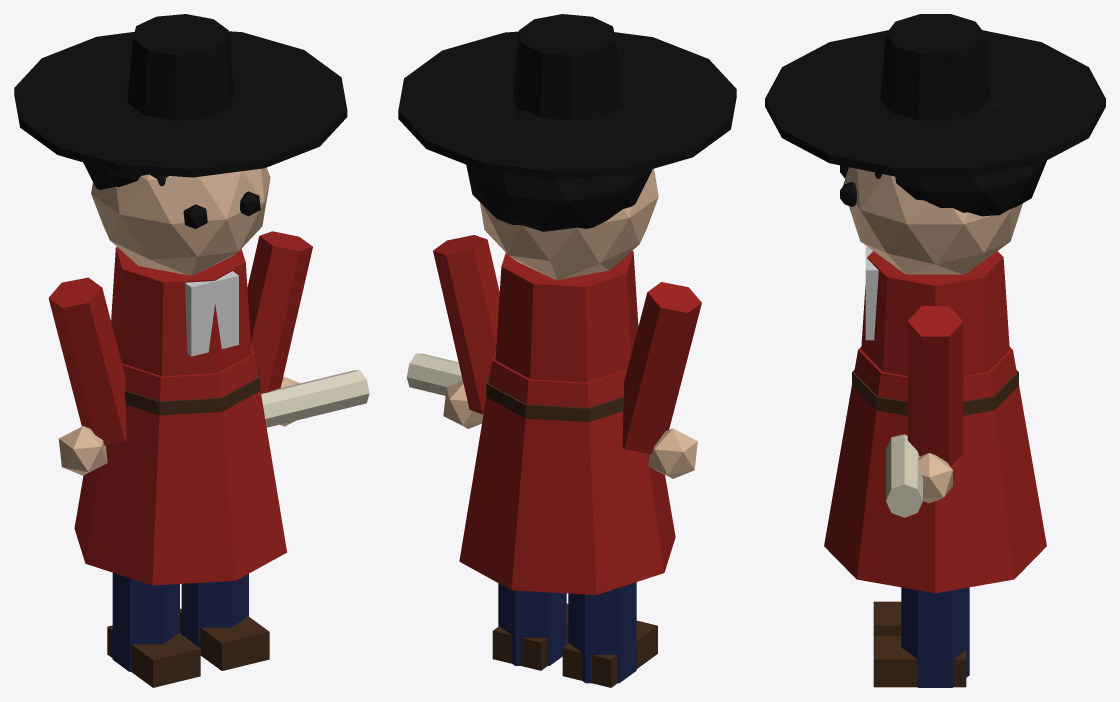
Rendered from SM_GZ_npc_mayor.fbx.
3 renders of one model, left to right at view 1: azimuth 30°, elevation 25°; view 2: azimuth 150°, elevation 25°; view 3: azimuth 270°, elevation 25°, orthographic.
Parts seen in each view (by area): view 1: SM_GZ_npc_mayor; view 2: SM_GZ_npc_mayor; view 3: SM_GZ_npc_mayor.
Part boxes in pixels (<box>): SM_GZ_npc_mayor: <box>14,14,369,687</box>; SM_GZ_npc_mayor: <box>398,14,736,687</box>; SM_GZ_npc_mayor: <box>765,14,1105,687</box>.
Bounding box in the file's own units: 116 × 222 × 110.
